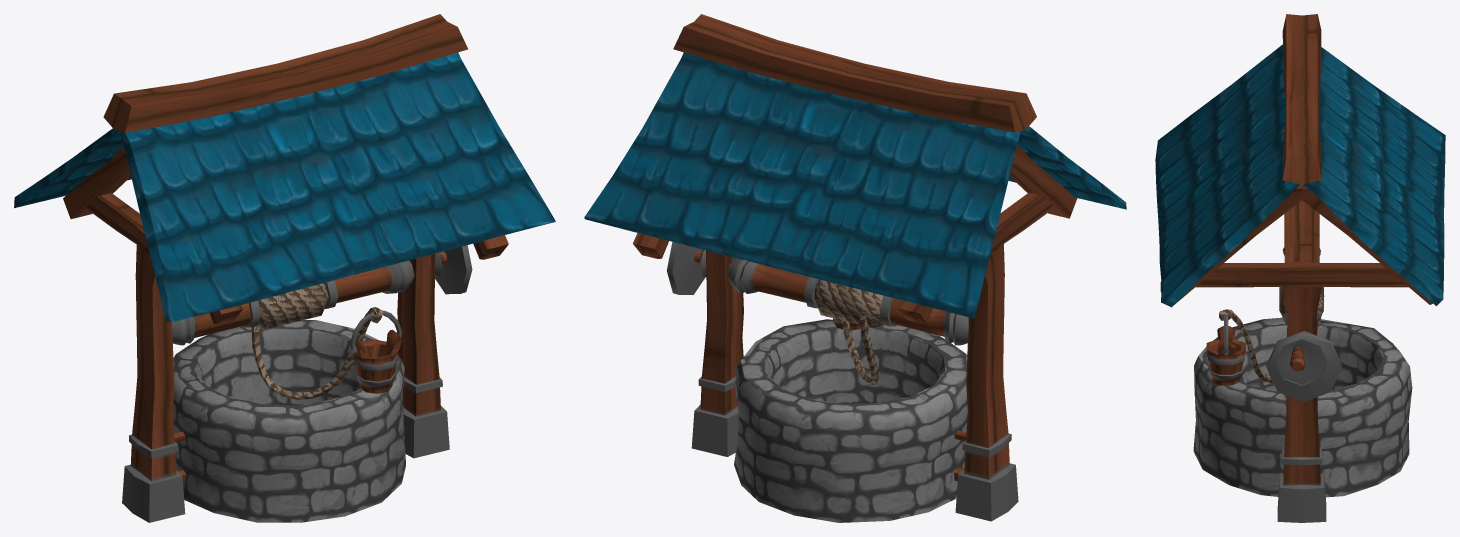
Rendered from Sumur.fbx.
3 views of the same model, side by side, from view 1: azimuth 30°, elevation 25°; view 2: azimuth 150°, elevation 25°; view 3: azimuth 270°, elevation 25° (orthographic). The views are drawn at different scales.
Visible parts, largest first — view 1: SUMUR; view 2: SUMUR; view 3: SUMUR.
Part boxes in pixels (box(x1,y1,x2,y2)): SUMUR: box(14, 14, 555, 522); SUMUR: box(584, 14, 1126, 522); SUMUR: box(1155, 14, 1445, 522).
Bounding box in the file's own units: 606 × 603 × 427.
1 material, 1 textured.
